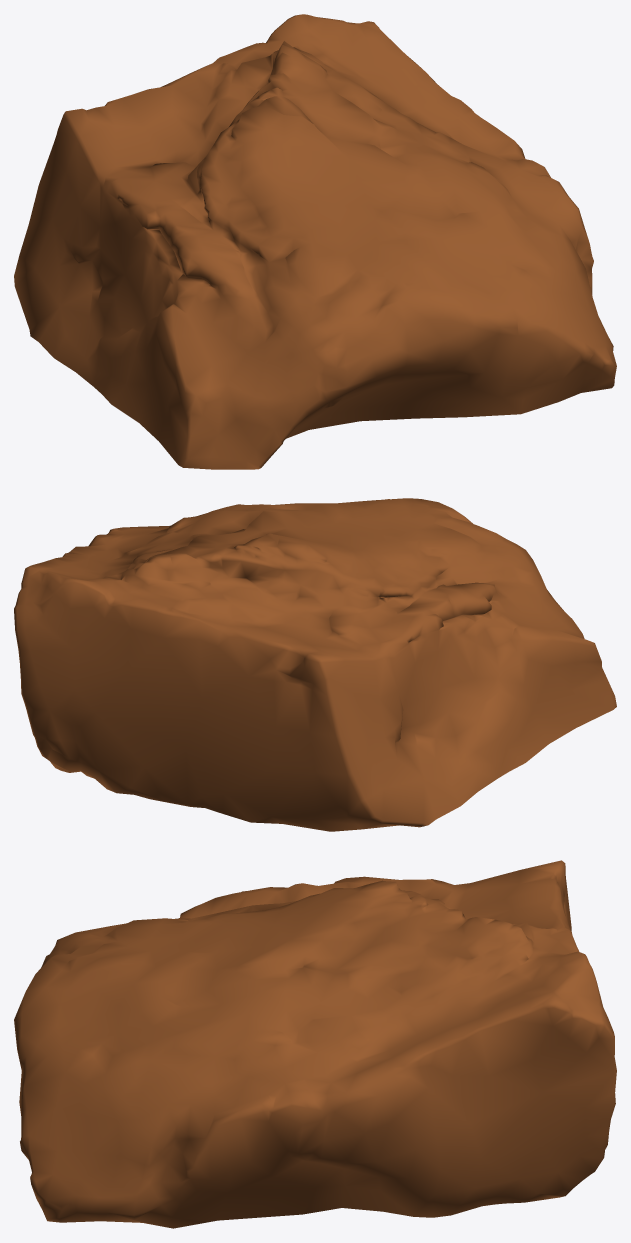
The model's file is MSH_Rocks_Boulder_05.FBX.
The picture shows the model from 3 angles, top to bottom: view 1: azimuth 30°, elevation 25°; view 2: azimuth 150°, elevation 25°; view 3: azimuth 270°, elevation 25°; orthographic projection. The views are drawn at different scales.
Visible parts, largest first — view 1: MESH_LOD0; view 2: MESH_LOD0; view 3: MESH_LOD0.
Boxes of the visible parts, x1,y1,x2,y2 form: MESH_LOD0: (14, 14, 616, 469); MESH_LOD0: (14, 498, 616, 831); MESH_LOD0: (14, 860, 616, 1228).
Size of what is drawn, in the model's own units: 103 by 47.19 by 109.
